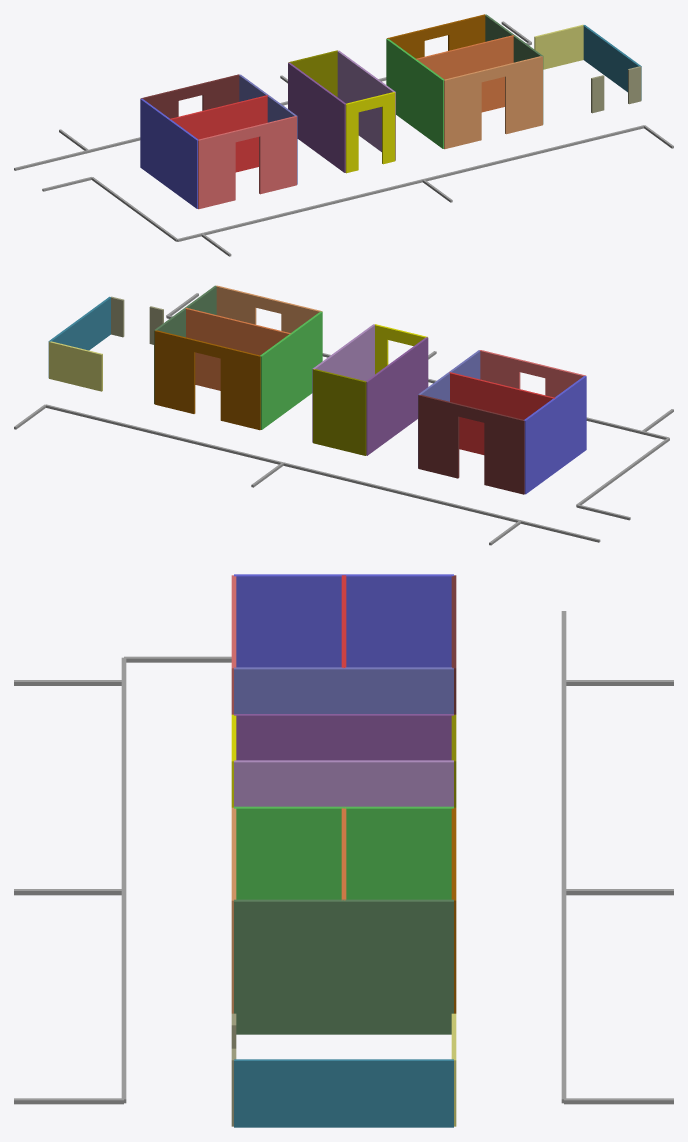
File: Hospital Walls.fbx
3 views of the same model, one above another, from view 1: azimuth 30°, elevation 25°; view 2: azimuth 150°, elevation 25°; view 3: azimuth 270°, elevation 25° (orthographic). The views are drawn at different scales.
Parts seen in each view (by area): view 1: VestRom1, VestRom2, NordRom1, NordSkap, NordRom2, MidRom2, MidRom1, SoerSkap, VestSkap, OestRom2, OestRom1, SmoVest (+8 smaller); view 2: OestRom1, OestRom2, NordRom1, NordRom2, NordSkap, OestSkap, MidRom2, MidRom1, VestRom2, VestRom1, SmoOest, OestResep (+8 smaller); view 3: SoerRom2, NordRom2, NordRom1, SoerResep, SoerSkap, SoerRom1, NordSkap, SmoOest, SmoVest, OestRom2, VestRom2.
Boxes of the visible parts, x1=… form: VestRom1: x1=198, y1=116, x2=296, y2=209; VestRom2: x1=444, y1=56, x2=542, y2=149; NordRom1: x1=140, y1=98, x2=198, y2=208; NordSkap: x1=288, y1=62, x2=345, y2=172; NordRom2: x1=386, y1=38, x2=444, y2=148; MidRom2: x1=415, y1=35, x2=513, y2=112; MidRom1: x1=169, y1=95, x2=267, y2=172; SoerSkap: x1=337, y1=50, x2=395, y2=160; VestSkap: x1=345, y1=92, x2=395, y2=173; OestRom2: x1=387, y1=14, x2=485, y2=58; OestRom1: x1=140, y1=74, x2=239, y2=118; SmoVest: x1=177, y1=125, x2=644, y2=241; OestRom1: x1=418, y1=395, x2=524, y2=494; OestRom2: x1=154, y1=330, x2=260, y2=430; NordRom1: x1=524, y1=376, x2=586, y2=494; NordRom2: x1=260, y1=311, x2=322, y2=429; NordSkap: x1=366, y1=337, x2=428, y2=455; OestSkap: x1=313, y1=369, x2=366, y2=455; MidRom2: x1=185, y1=307, x2=291, y2=390; MidRom1: x1=449, y1=372, x2=555, y2=454; VestRom2: x1=216, y1=285, x2=322, y2=332; VestRom1: x1=479, y1=350, x2=585, y2=397; SmoOest: x1=46, y1=404, x2=600, y2=542; OestResep: x1=49, y1=341, x2=102, y2=391; SoerRom2: x1=234, y1=899, x2=453, y2=1034; NordRom2: x1=234, y1=806, x2=453, y2=899; NordRom1: x1=234, y1=574, x2=453, y2=667; SoerResep: x1=234, y1=1059, x2=453, y2=1127; SoerSkap: x1=234, y1=760, x2=453, y2=806; SoerRom1: x1=234, y1=667, x2=453, y2=713; NordSkap: x1=234, y1=714, x2=453, y2=760; SmoOest: x1=561, y1=611, x2=566, y2=1103; SmoVest: x1=121, y1=657, x2=126, y2=1103; OestRom2: x1=451, y1=807, x2=456, y2=1013; VestRom2: x1=231, y1=807, x2=236, y2=1013.
Size of the model in its own units: 66.12 by 8 by 36.
